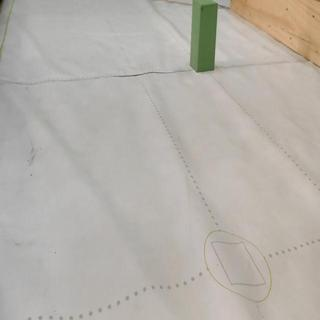greenbox: (189, 0, 217, 70)
